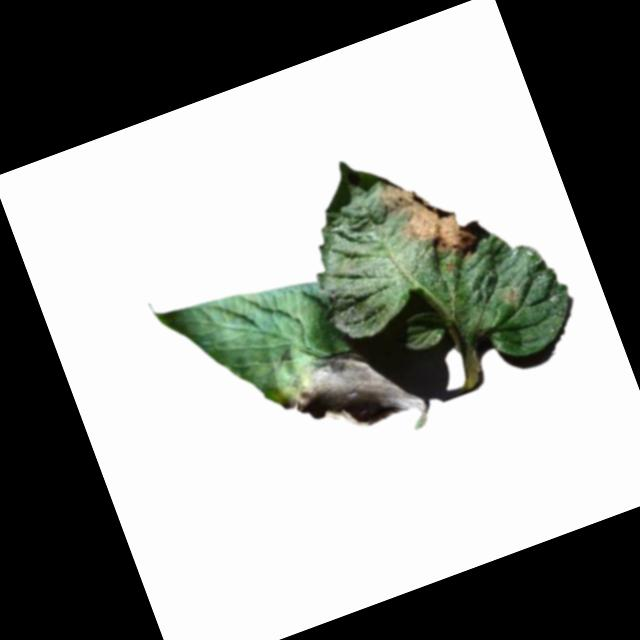Late_blight: (271, 331, 425, 451), (371, 152, 489, 279), (500, 282, 524, 308)
